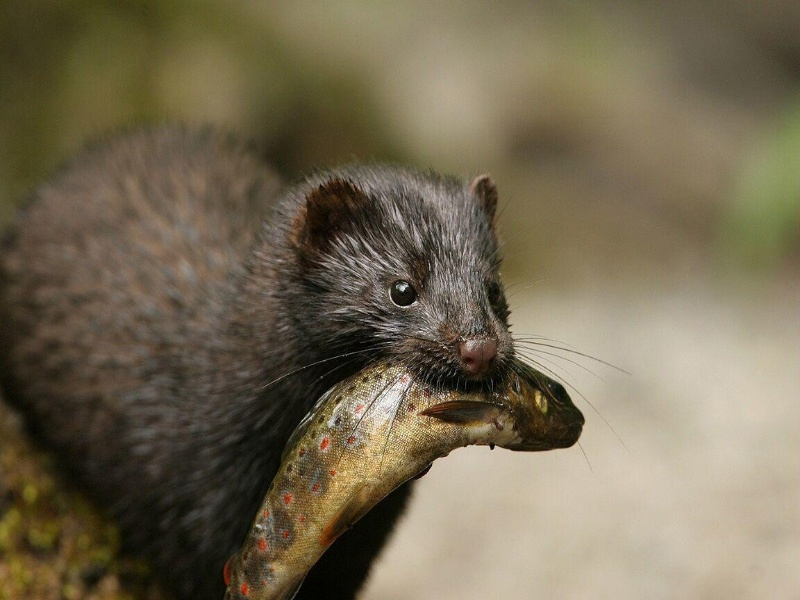minkish: (1, 111, 514, 580)
